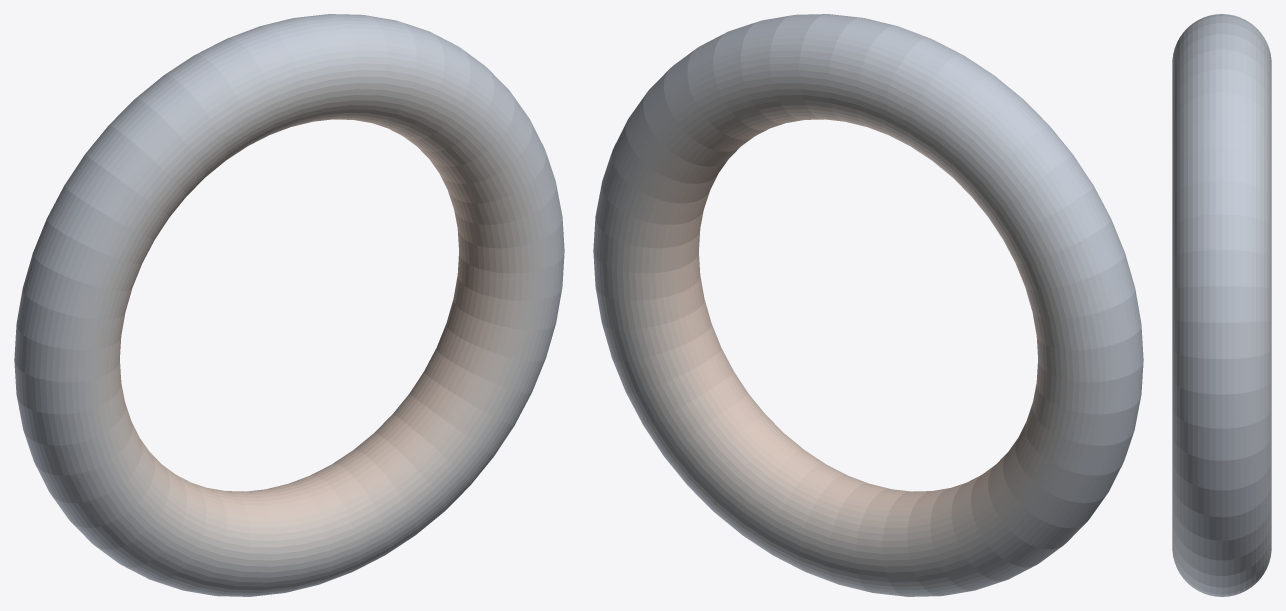
3 renders of one model, left to right at view 1: azimuth 30°, elevation 25°; view 2: azimuth 150°, elevation 25°; view 3: azimuth 270°, elevation 25°, orthographic. The views are drawn at different scales.
Visible parts, largest first — view 1: world; view 2: world; view 3: world.
Part boxes in pixels (left/top/right/bottom): world: left=14, top=14, right=564, bottom=596; world: left=593, top=14, right=1143, bottom=596; world: left=1172, top=14, right=1271, bottom=596.
Bounding box in the file's own units: 28.93 × 28.88 × 4.92.
